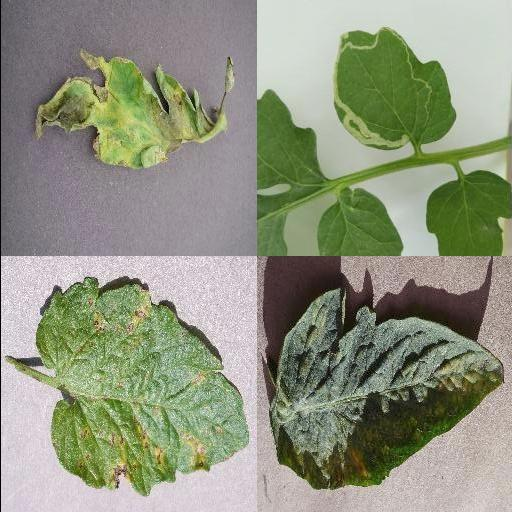Late Blight: (33, 51, 235, 171)
Leaf Miner: (331, 28, 457, 151)
Septoria: (34, 276, 250, 496)
Spider Mites: (270, 290, 506, 490)
